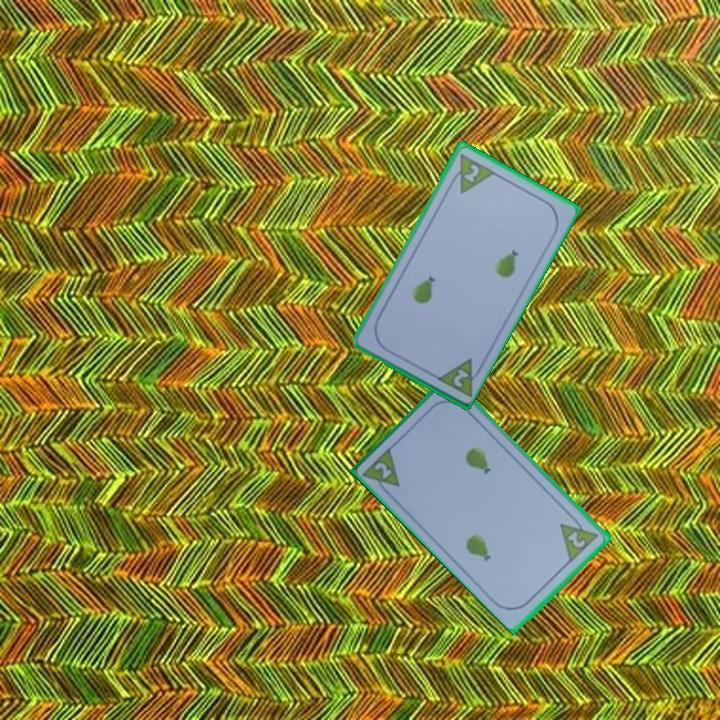2p: (556, 511, 602, 564), (371, 458, 396, 482), (460, 160, 482, 185), (449, 365, 471, 390)
